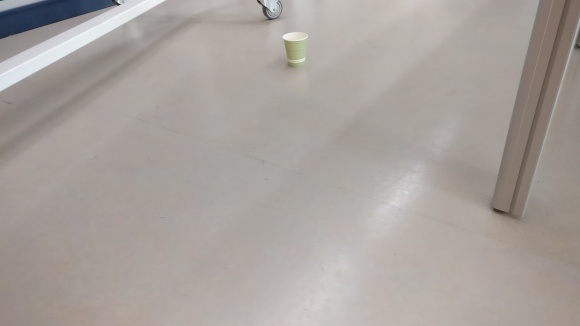cup: (282, 31, 309, 68)
